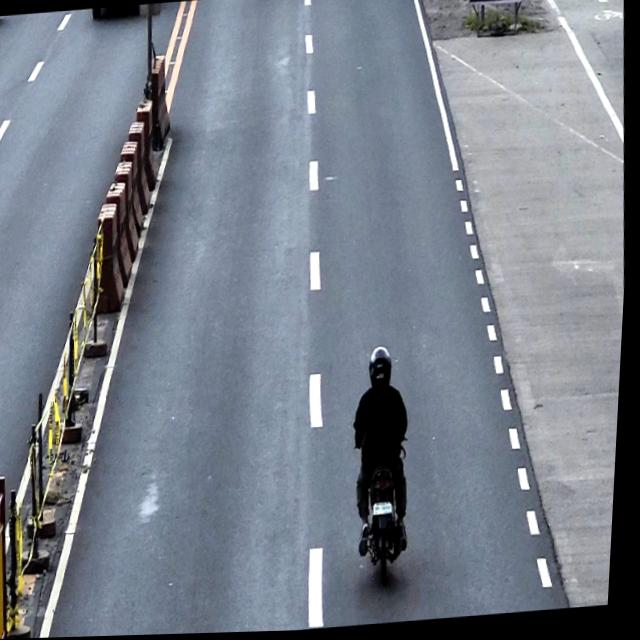License-Plate: (377, 502, 398, 520)
Motorcycle: (351, 414, 423, 579)
